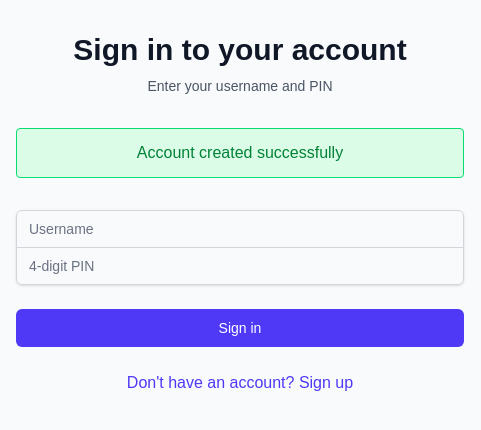
it: SignInPage › should handle session creation failure
The width and height of the screenshot is (481, 430).
Type "testuser" into the field with placeholder "Username" at (240,228), box [16, 210, 464, 248]
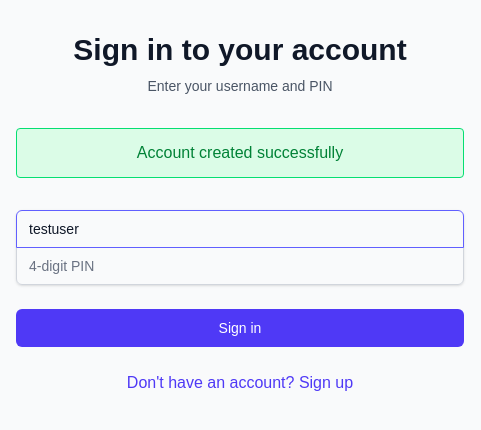
Type "1234" into the password field with placeholder "4-digit PIN" at (240,266), box [16, 246, 464, 284]
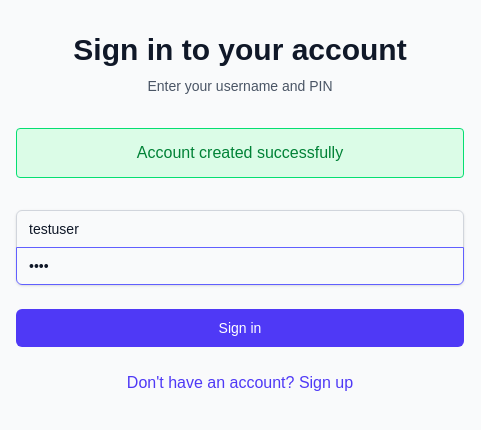
Click the button "Sign in" at (240,328), box [16, 308, 464, 346]
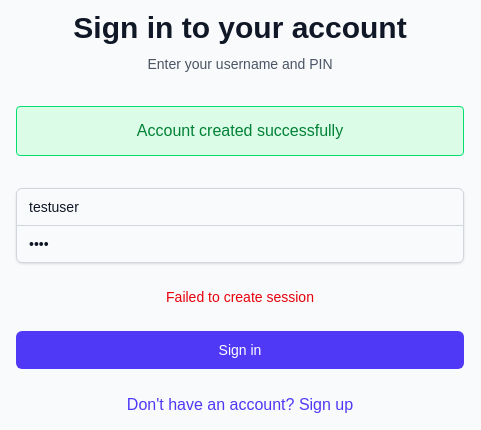
Check: the text "Failed to create session" is shown, box [166, 288, 314, 304]
